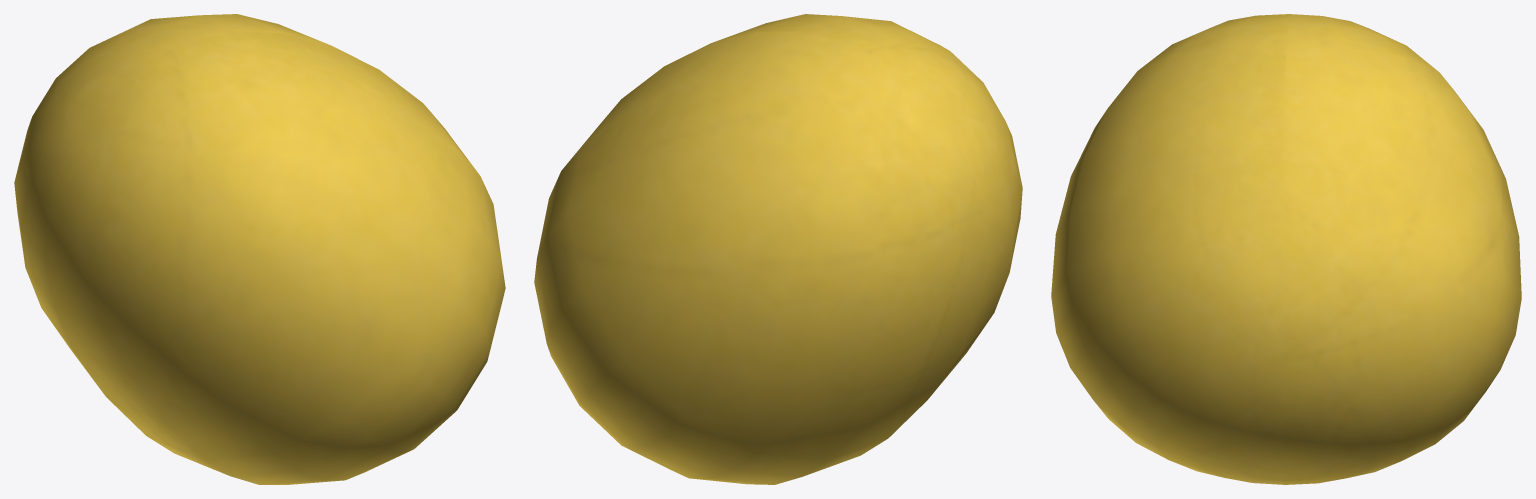
The model's file is GOLD_EGG.fbx.
The picture shows the model from 3 angles, left to right: view 1: azimuth 30°, elevation 25°; view 2: azimuth 150°, elevation 25°; view 3: azimuth 270°, elevation 25°; orthographic projection. The views are drawn at different scales.
Visible parts, largest first — view 1: Cylinder.009; view 2: Cylinder.009; view 3: Cylinder.009.
Boxes of the visible parts, left/top/right/bottom form: Cylinder.009: left=14, top=14, right=505, bottom=484; Cylinder.009: left=534, top=14, right=1022, bottom=484; Cylinder.009: left=1051, top=14, right=1521, bottom=484.
Size of the model in its own units: 0.2457 by 0.2485 by 0.2584.
Materials: 1 (1 with a texture image).
